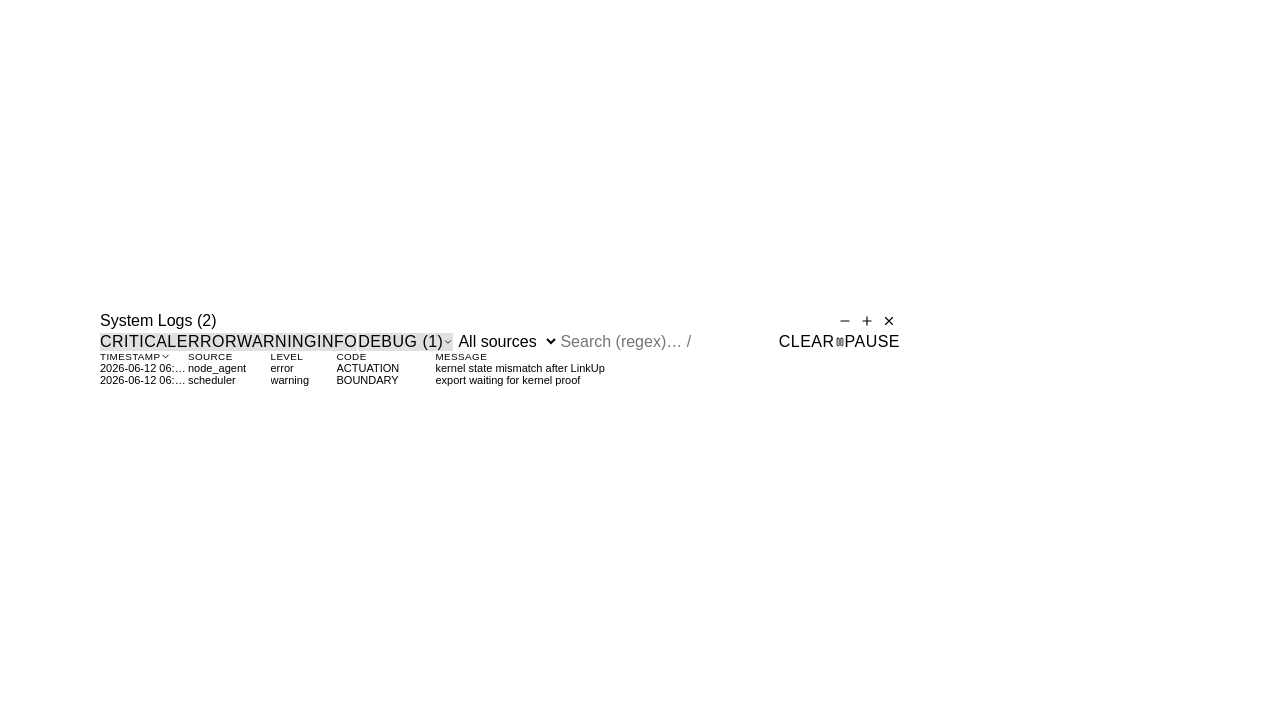
Test: LogPanel › shows each service's debug state from what VS-API last heard back
Click the button "debug (1)": (406, 342) [358,332,453,350]
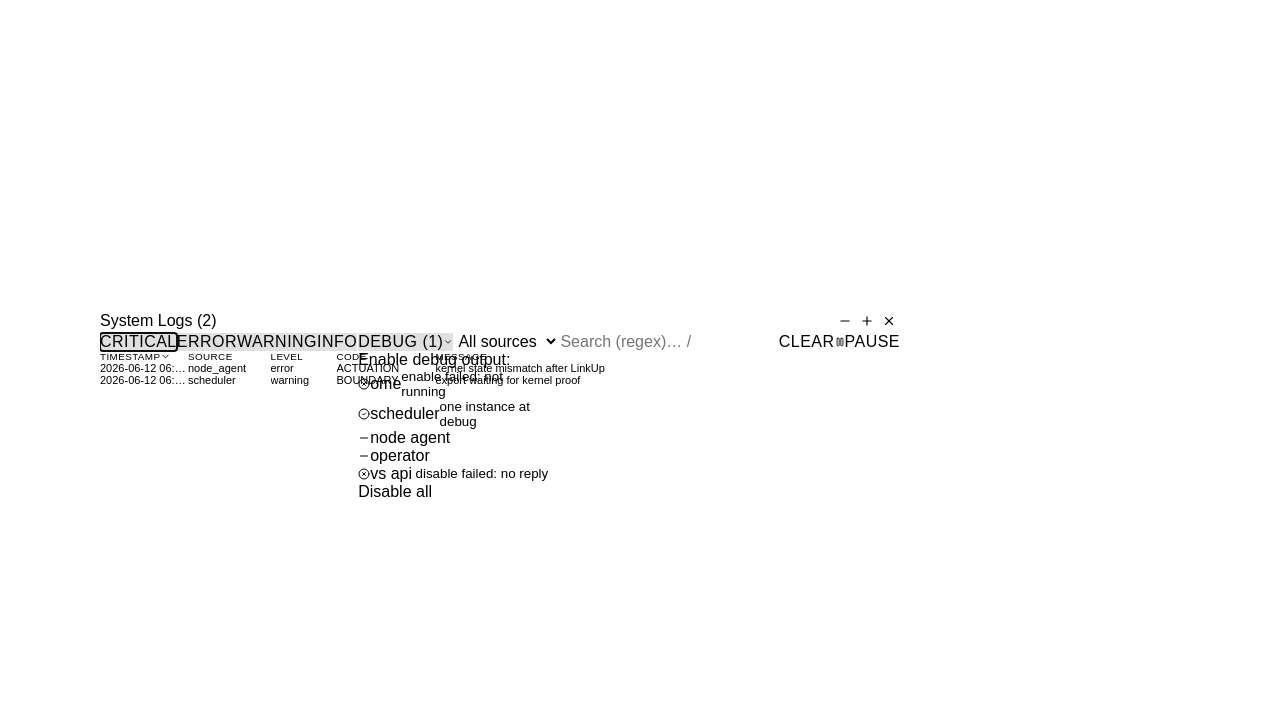
Expected: the button "scheduler one instance at debug" is shown, [358,398,548,428]
Expected: the button "ome enable failed: not running" is shown, [358,368,548,398]
Expected: the button "vs api disable failed: no reply" is shown, [358,464,548,482]
